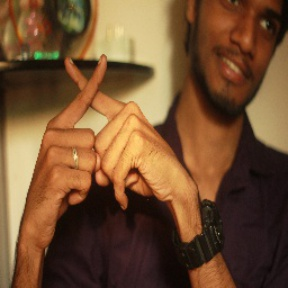X: (34, 38, 153, 154)
